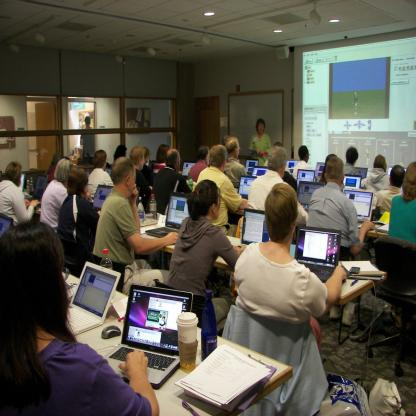book: (177, 343, 271, 411), (338, 261, 385, 281)
